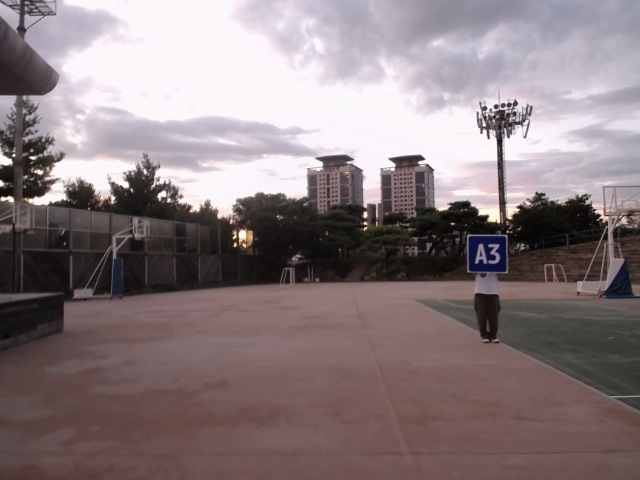delivery_a3: (467, 235, 507, 274)
